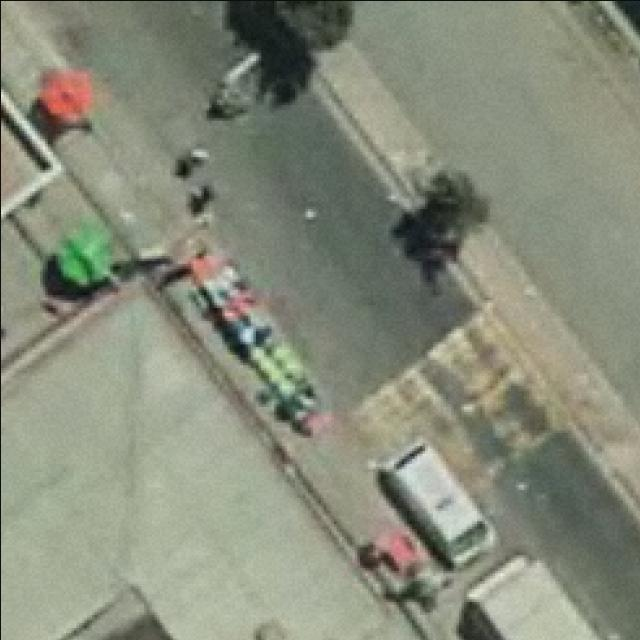vendedor_ambulante: (52, 221, 116, 289), (36, 63, 98, 131)
